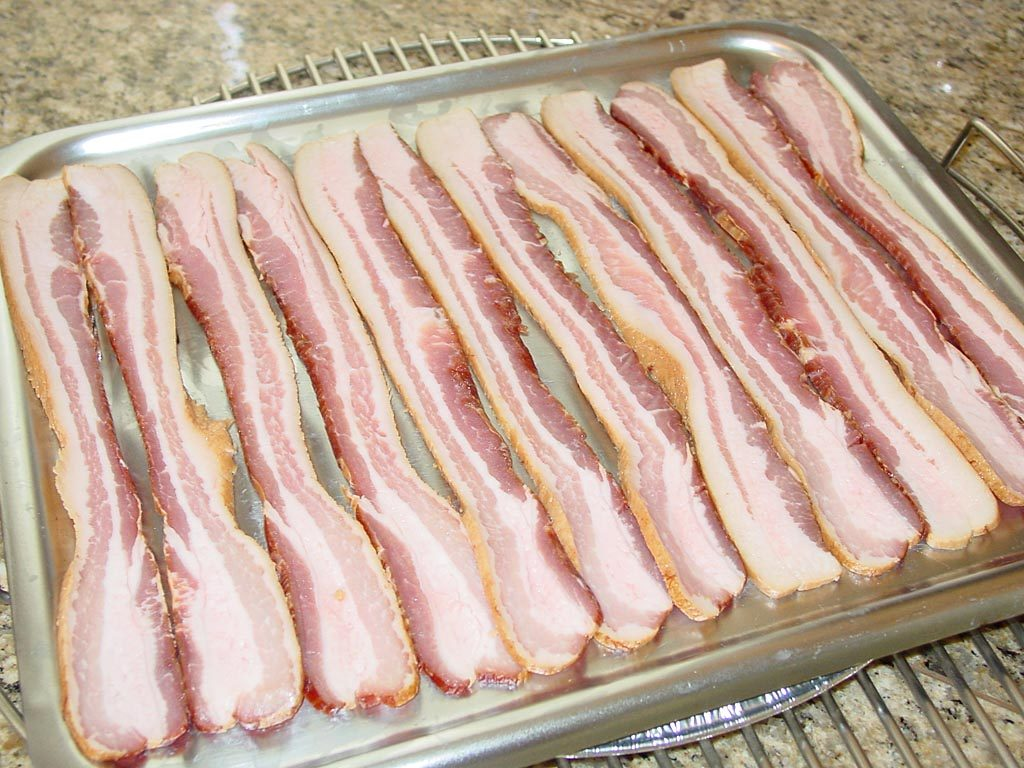bacon: (45, 140, 996, 597)
